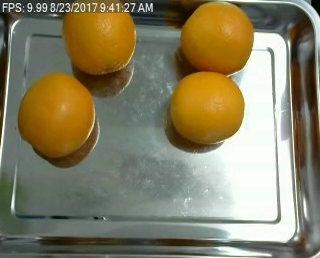Orange: (18, 71, 96, 159), (180, 1, 255, 76), (169, 72, 246, 144), (60, 13, 135, 76)
